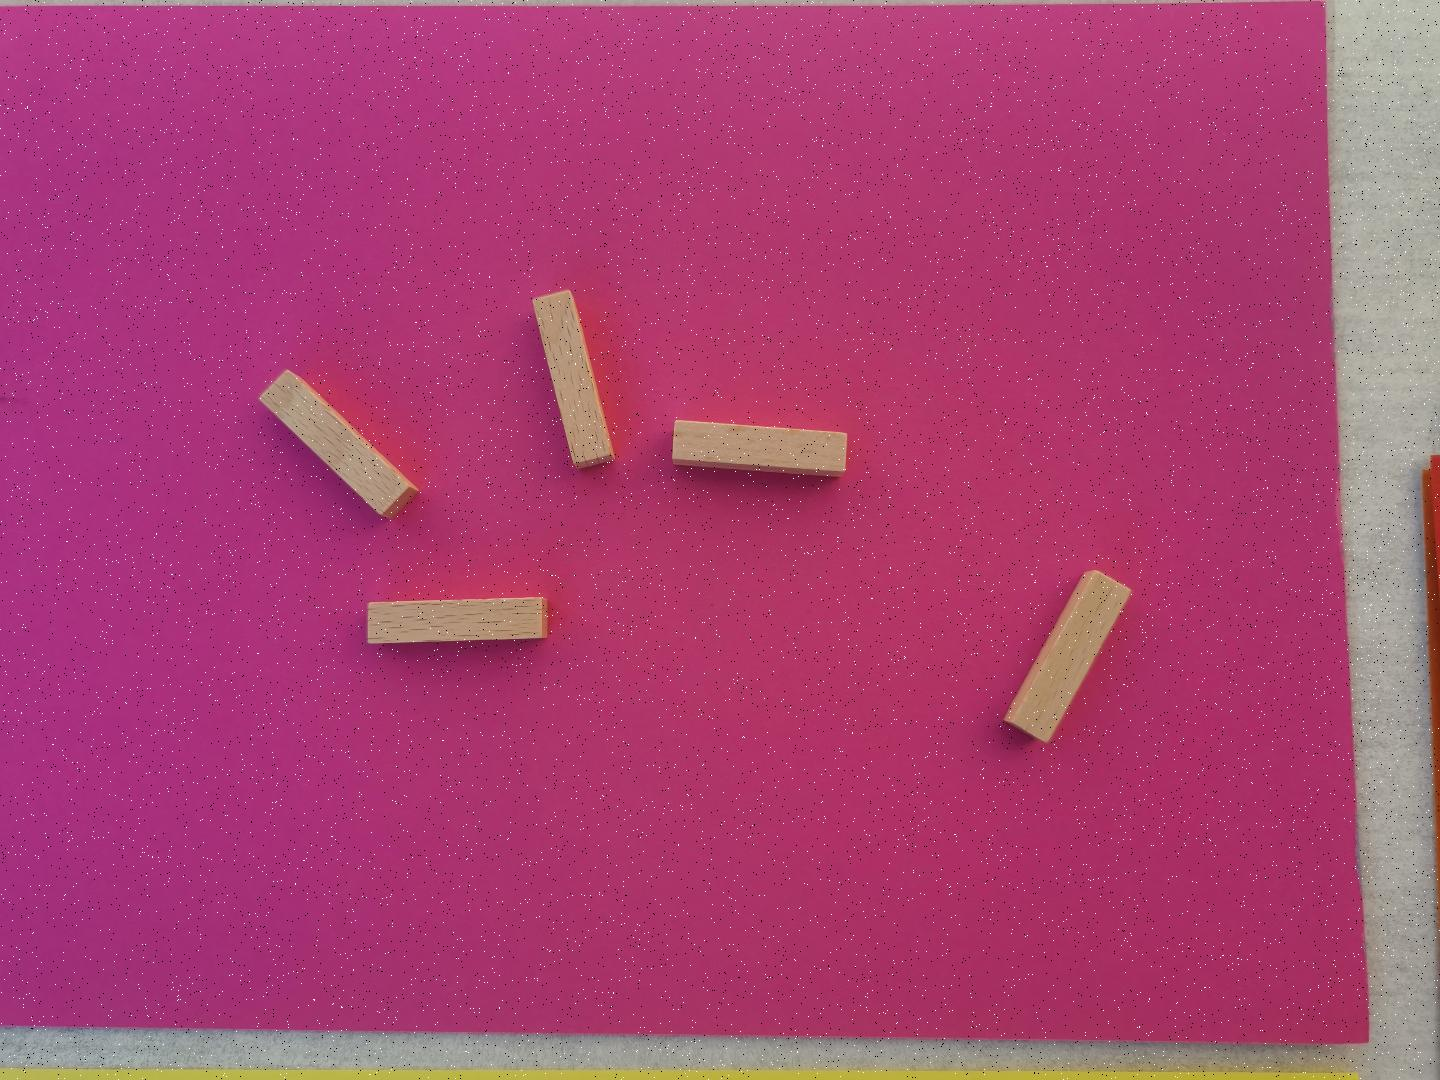jenga: (259, 371, 416, 517), (1005, 571, 1130, 742), (532, 289, 613, 467), (672, 419, 847, 475), (369, 597, 549, 644)
